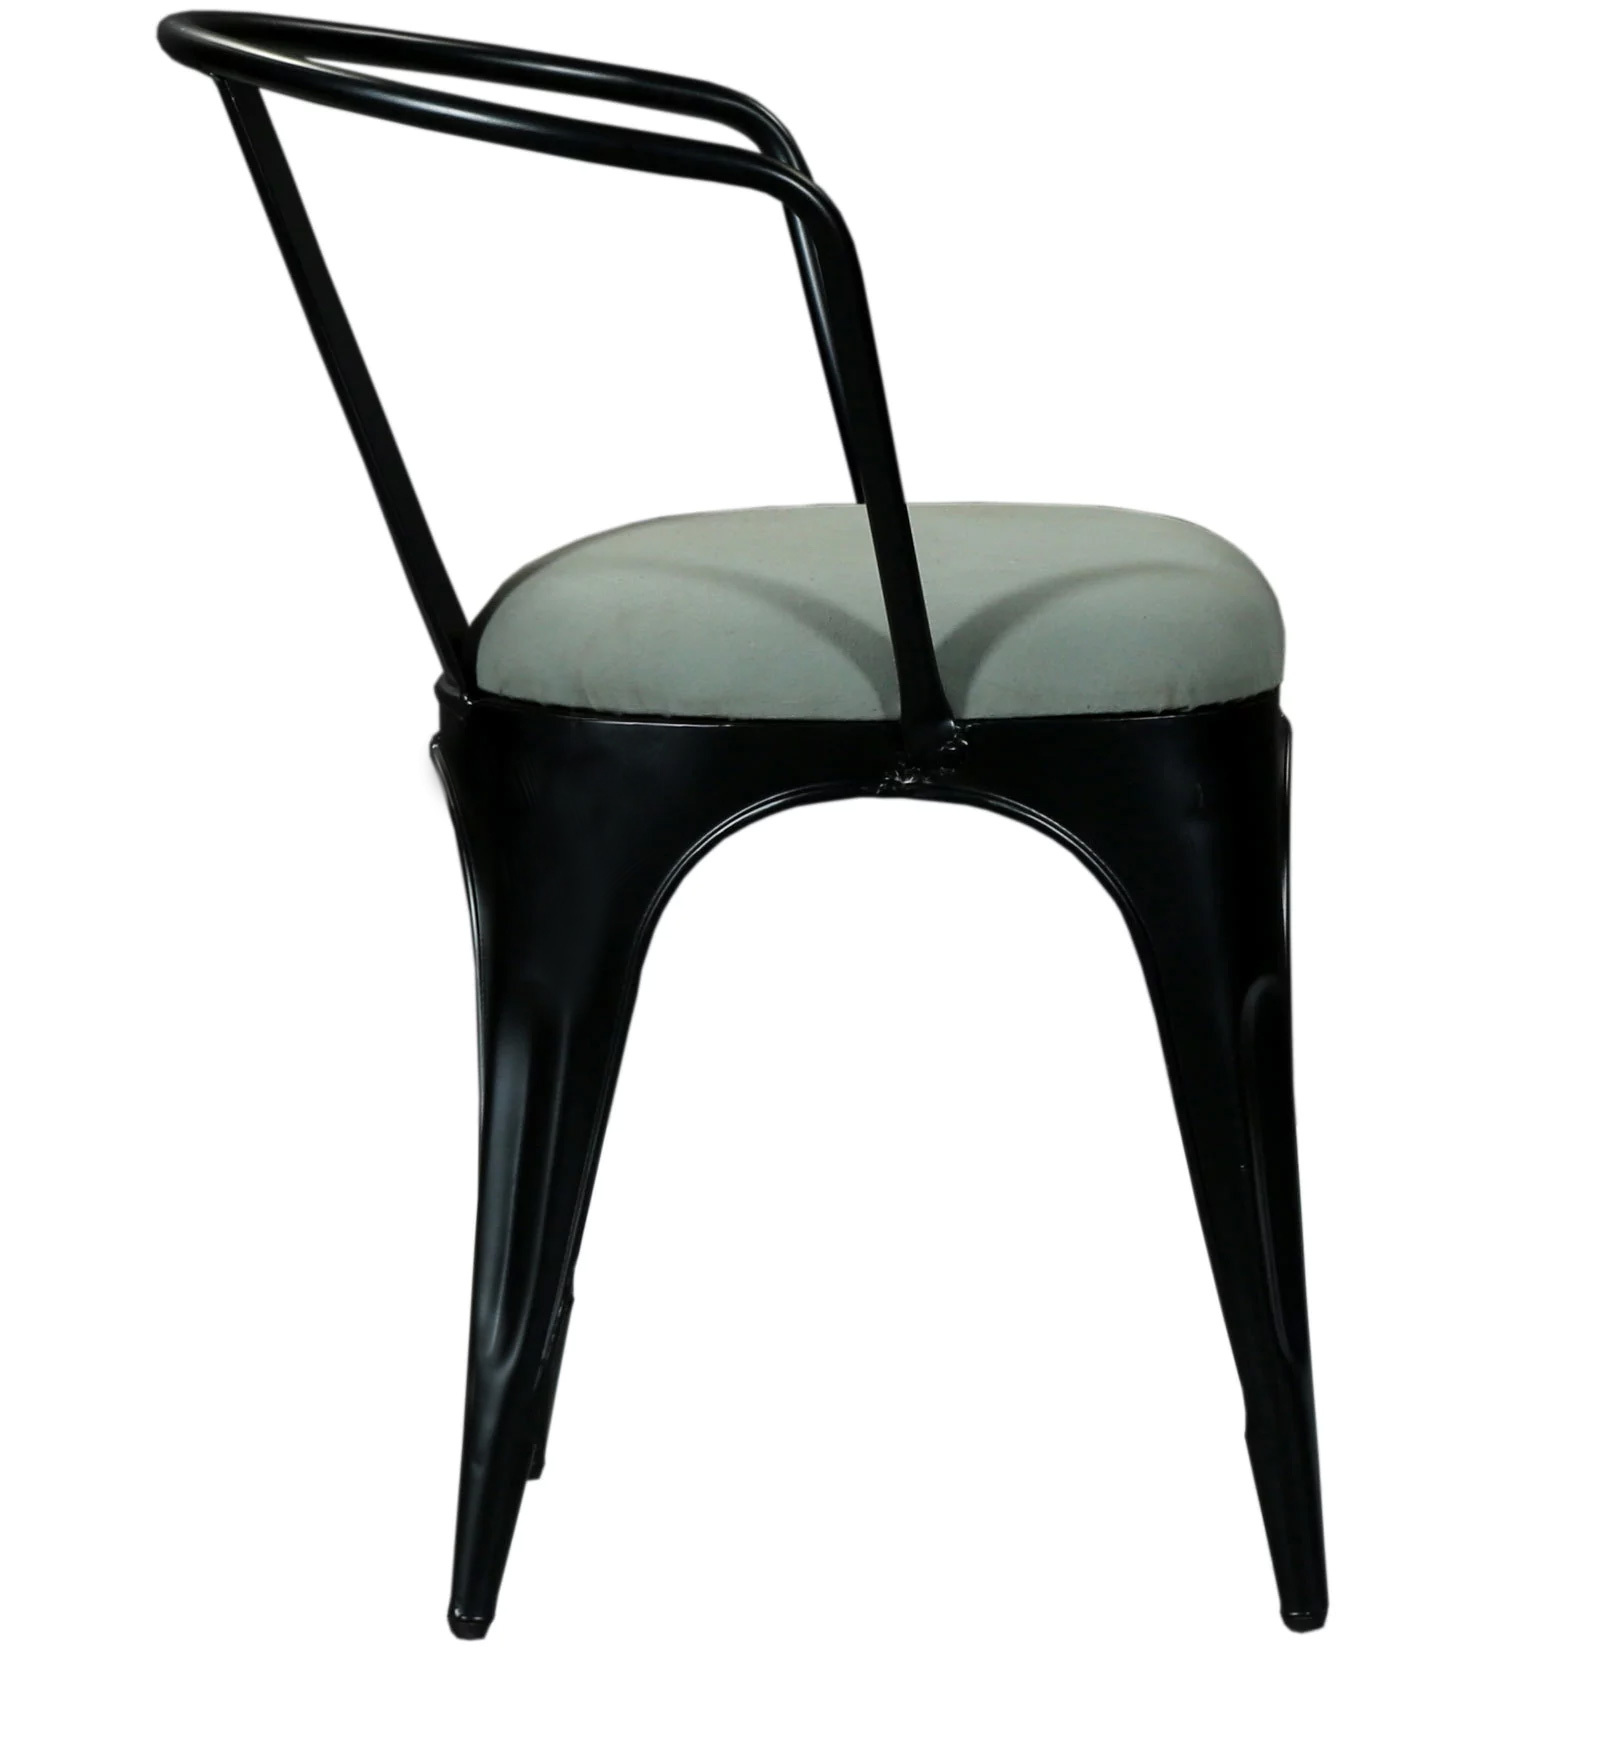Danlou Metal Chair with Cushion in Black Colour by Bohemiana: (110, 5, 1436, 1702)
